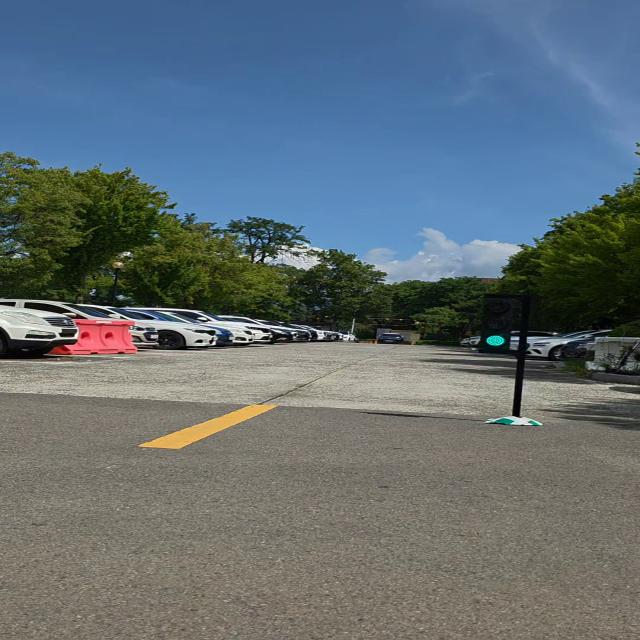green: (474, 294, 516, 354)
